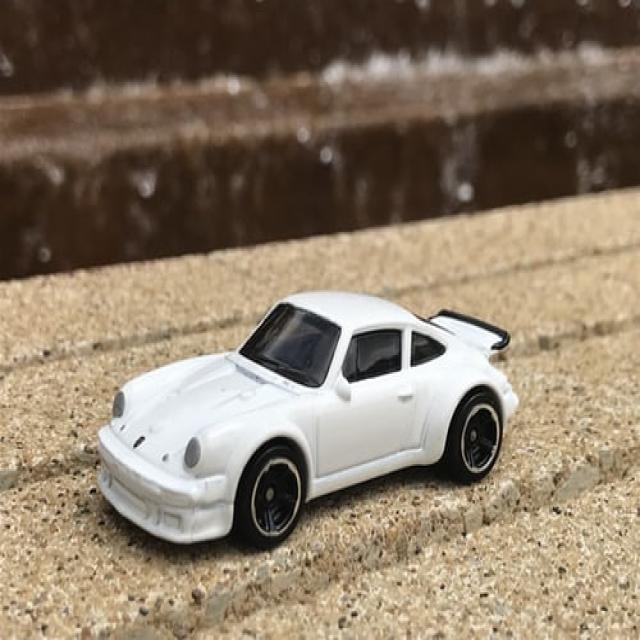Car: (94, 286, 520, 550)
